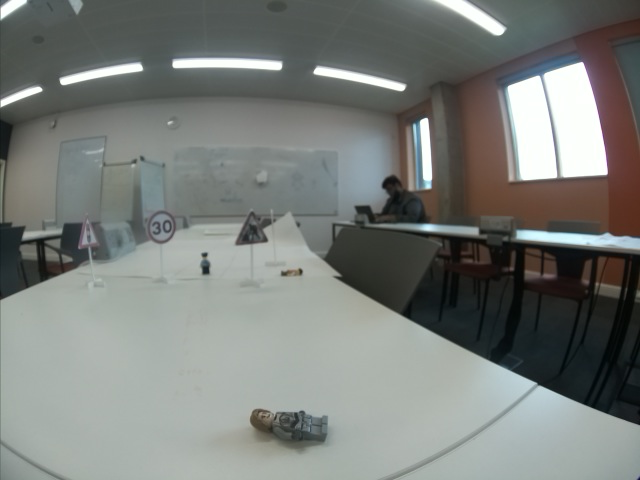30mph: (148, 210, 177, 244)
Lego Man: (252, 408, 328, 442), (200, 251, 211, 274), (280, 268, 302, 277)
Roadworks: (235, 210, 270, 245)
Traffic lights: (77, 215, 101, 248)
